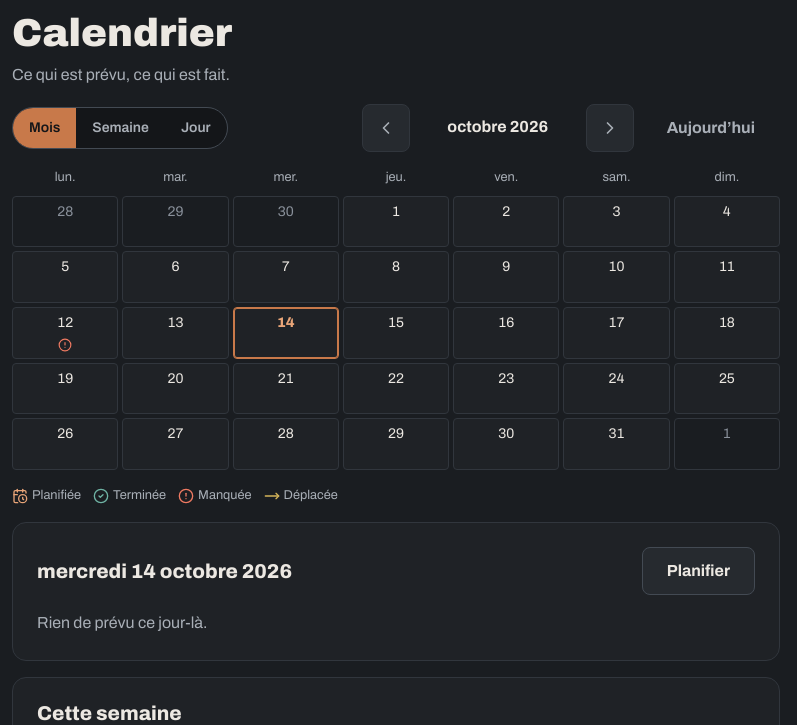
Test: actions du calendrier › permet encore de démarrer une séance manquée
expect the 1st button with class "cell" is shown: met, box x1=12 y1=196 x2=118 y2=247
Click the button with class "cell" showing "12" at (65, 333), box x1=12 y1=307 x2=118 y2=359
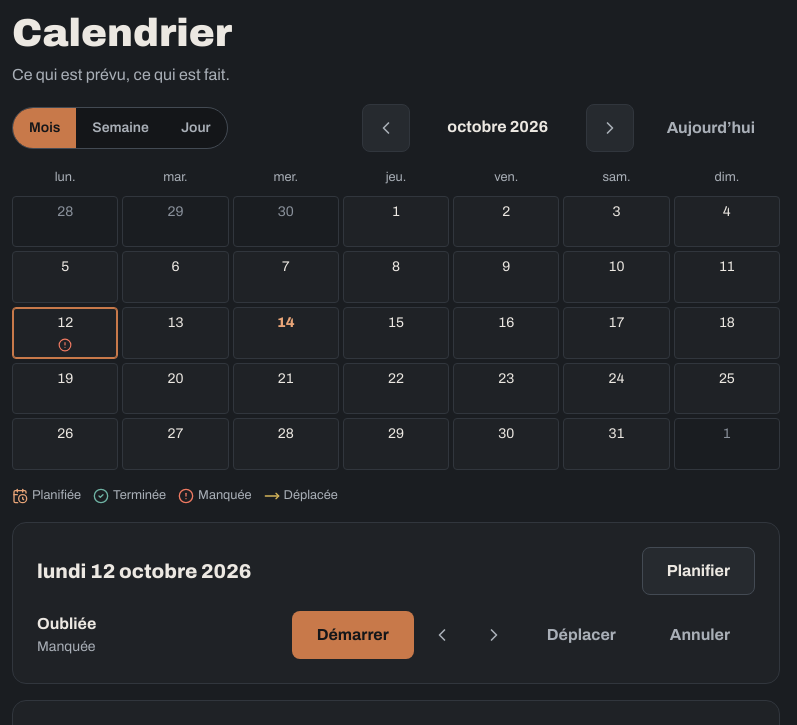
expect the text with class "day__status" reads "Manquée": met, box x1=37 y1=639 x2=96 y2=654
expect the button "Démarrer" is shown: met, box x1=292 y1=611 x2=414 y2=659
